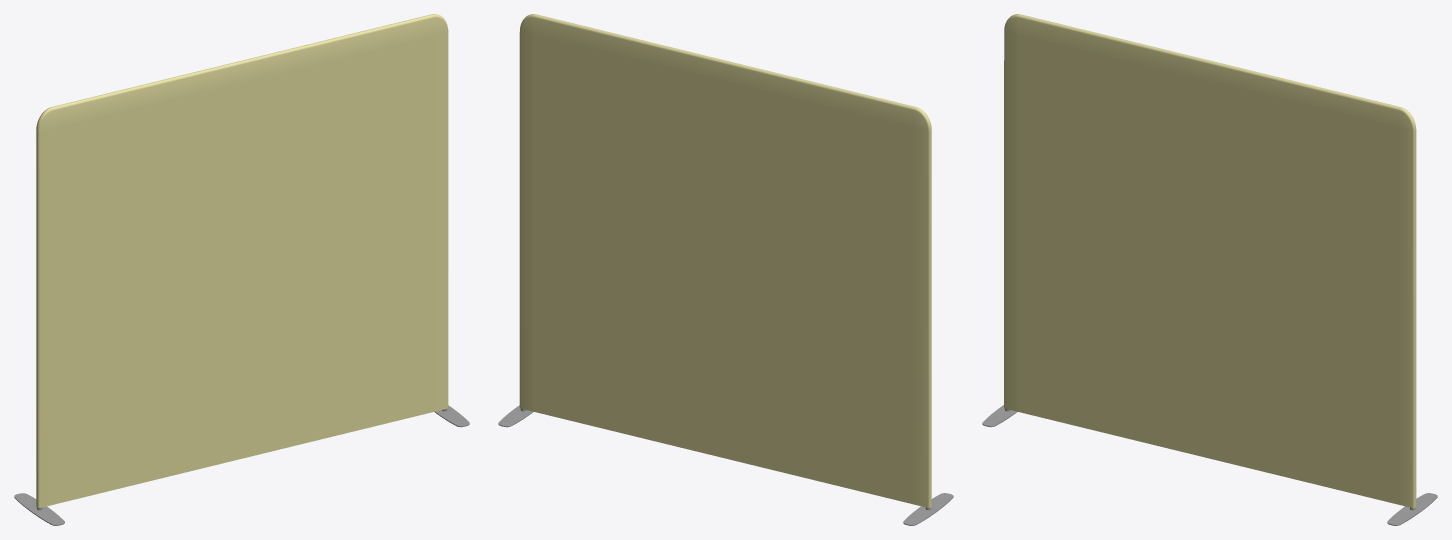
The model's file is 8ftStraight.glb.
3 renders of one model, left to right at view 1: azimuth 30°, elevation 25°; view 2: azimuth 150°, elevation 25°; view 3: azimuth 330°, elevation 25°, orthographic.
Parts seen in each view (by area): view 1: 8ft Quickzip Straight; view 2: 8ft Quickzip Straight; view 3: 8ft Quickzip Straight.
Boxes of the visible parts, x1,y1,x2,y2 form: 8ft Quickzip Straight: (14,14,469,525); 8ft Quickzip Straight: (498,14,953,525); 8ft Quickzip Straight: (982,14,1437,525).
Size of the model in its own units: 2.5 by 2.26 by 0.4301.
